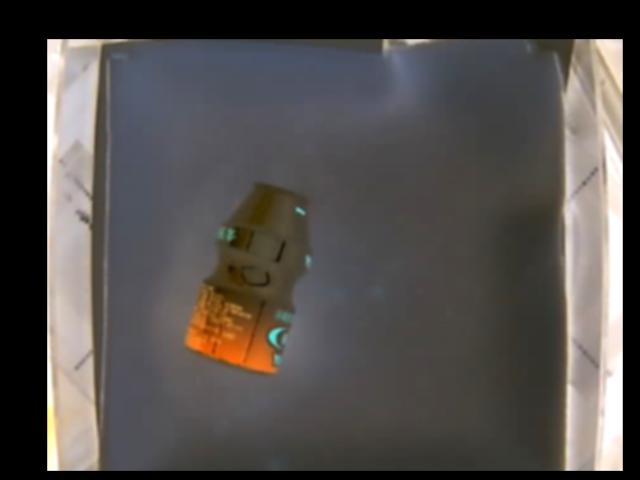Bottle: (186, 180, 312, 376)
